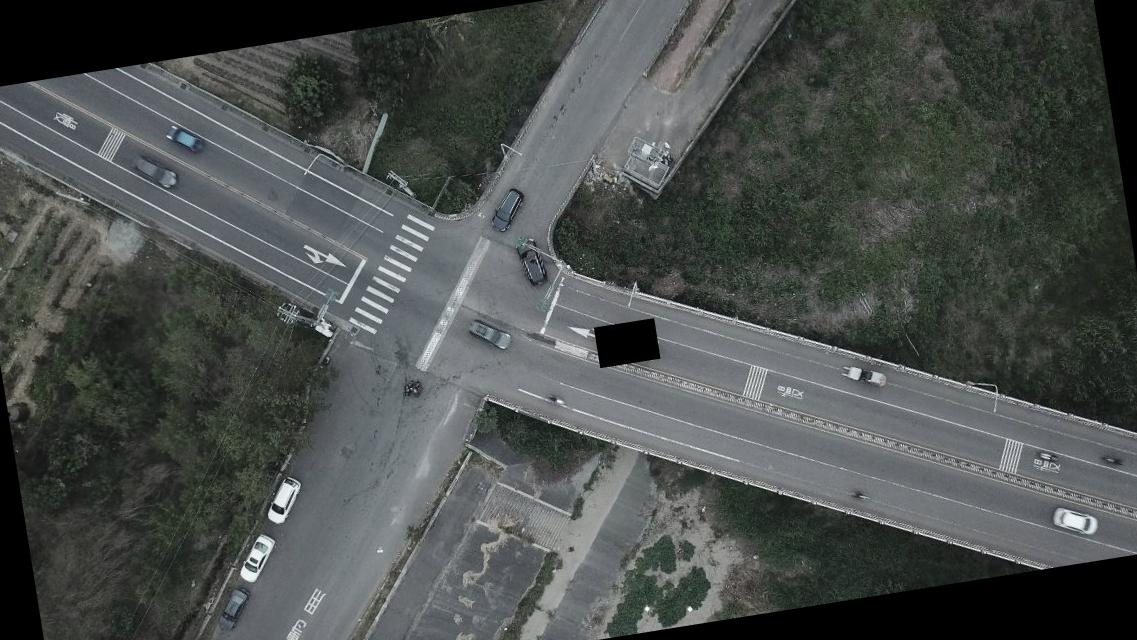vehicle: (260, 474, 307, 526), (235, 532, 280, 583), (128, 150, 178, 194), (1050, 500, 1102, 540), (485, 186, 530, 232), (212, 586, 255, 632), (466, 314, 514, 354), (512, 236, 550, 286), (164, 119, 206, 159)
